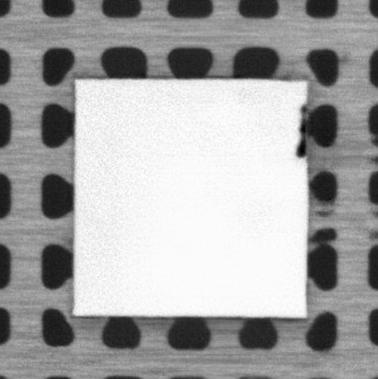DIE_BROKEN: (293, 104, 308, 162)
